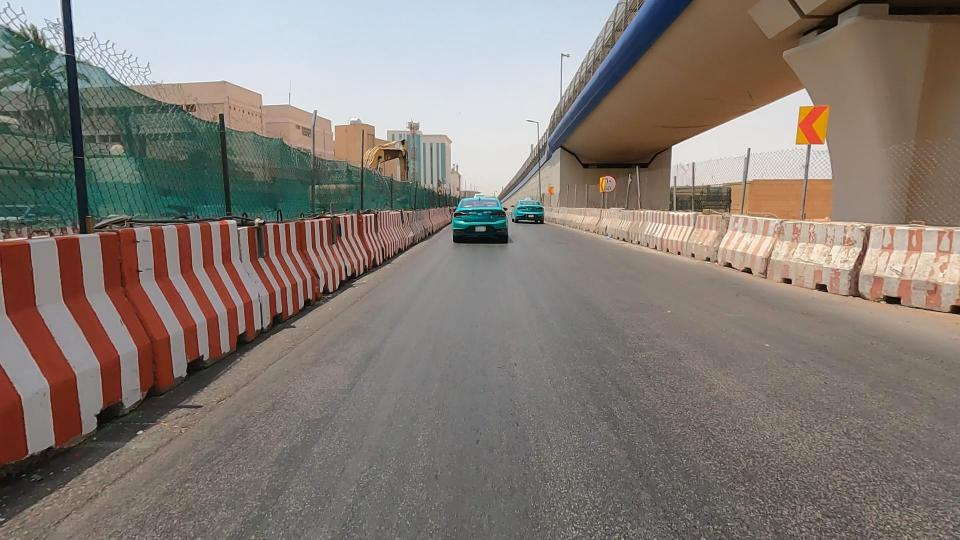CONSTRUCTION_ROAD: (80, 37, 367, 394), (0, 0, 226, 418), (603, 103, 890, 312), (786, 118, 960, 347), (255, 125, 482, 298), (533, 135, 683, 293)
